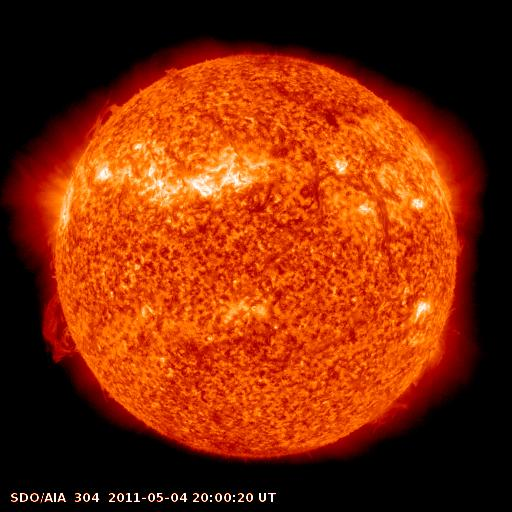prominence: (34, 290, 87, 367), (81, 92, 131, 139), (155, 58, 183, 82)
